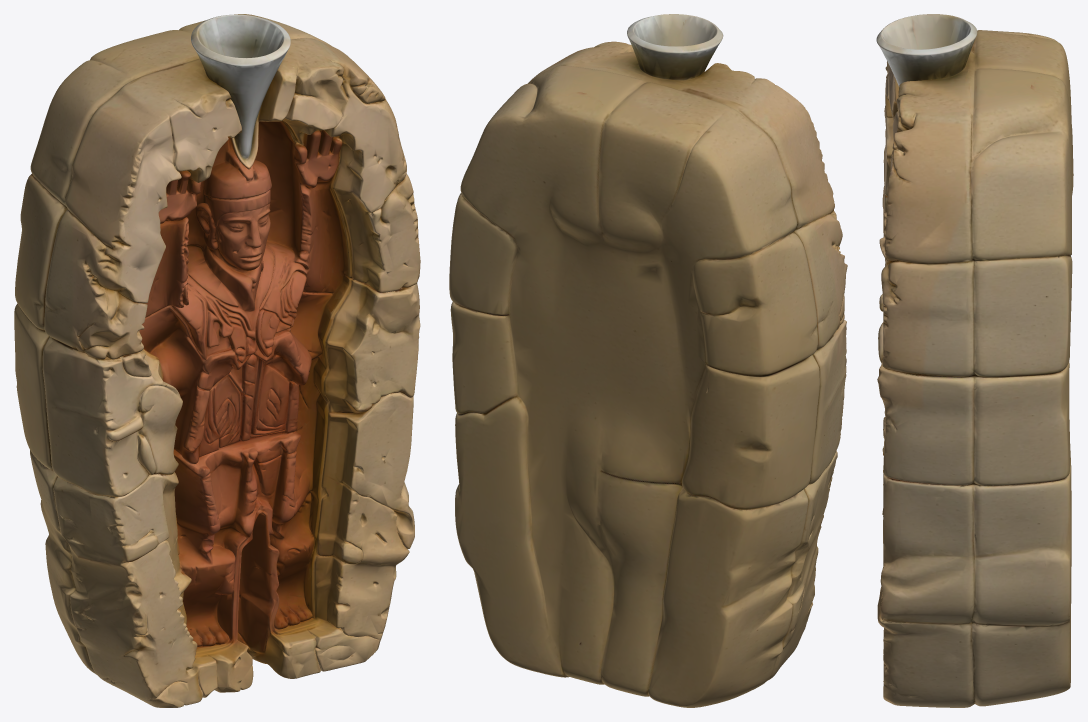
The picture shows the model from 3 angles, left to right: view 1: azimuth 30°, elevation 25°; view 2: azimuth 150°, elevation 25°; view 3: azimuth 270°, elevation 25°; orthographic projection. The views are drawn at different scales.
Parts seen in each view (by area): view 1: node_0; view 2: node_0; view 3: node_0.
Boxes of the visible parts, <box> form: node_0: <box>14,14,420,707</box>; node_0: <box>449,14,847,707</box>; node_0: <box>876,14,1073,707</box>.
Size of the model in its own units: 0.6417 by 1.12 by 0.3177.
1 material, 1 textured.
